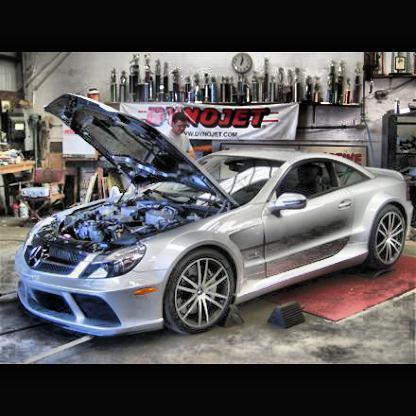Mercedes-Benz SL-Class Coupe 2009: (14, 96, 411, 341)
